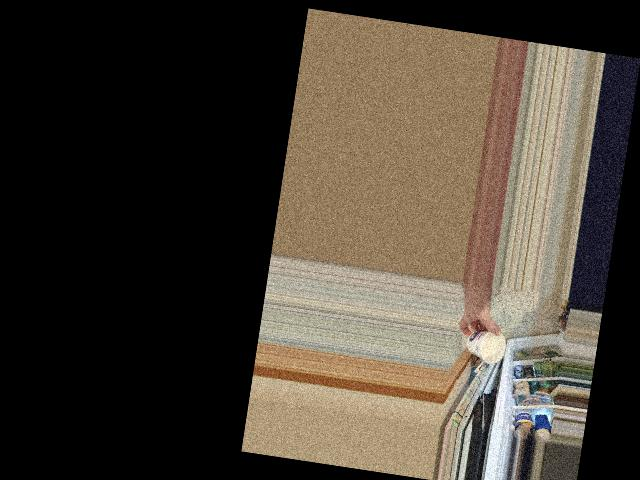cotage: (466, 327, 507, 362)
